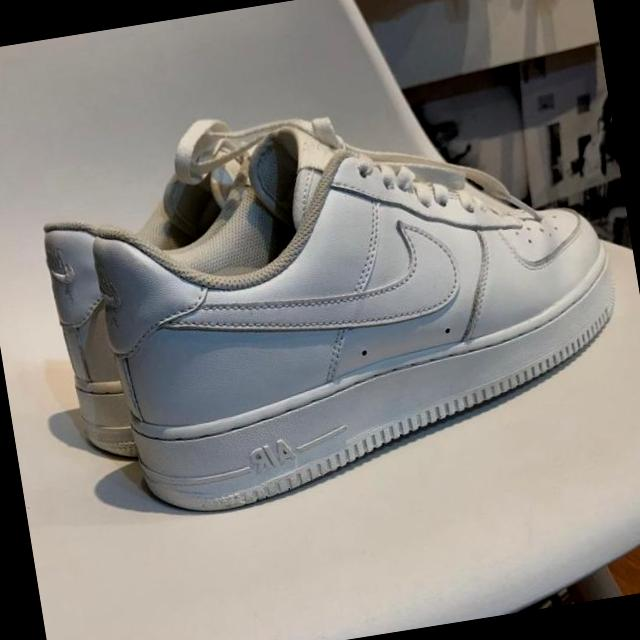nike_original_airforce: (75, 80, 638, 525)
